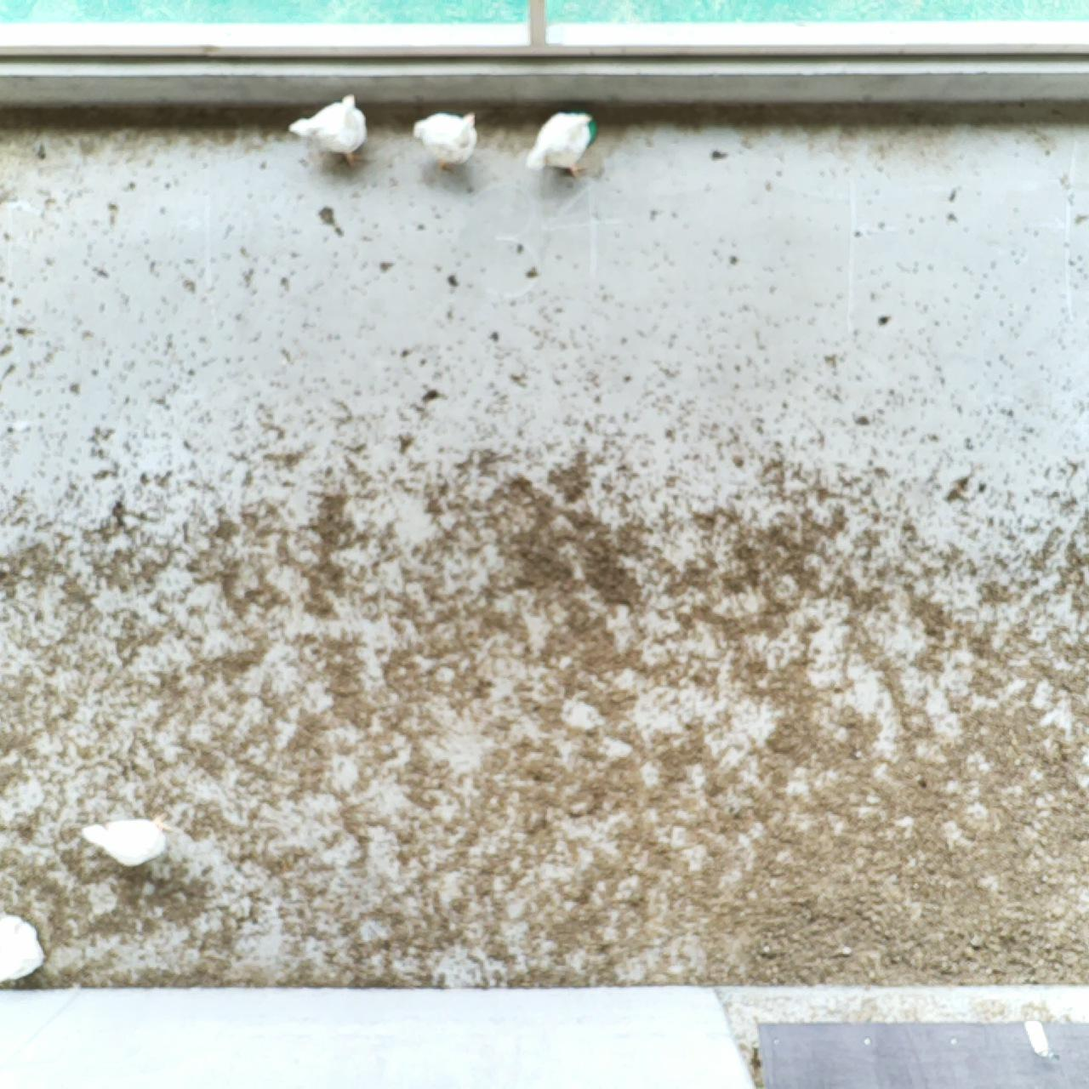chicken: (287, 90, 370, 169), (80, 812, 175, 871), (525, 106, 598, 178), (411, 111, 479, 174), (0, 912, 47, 982)
